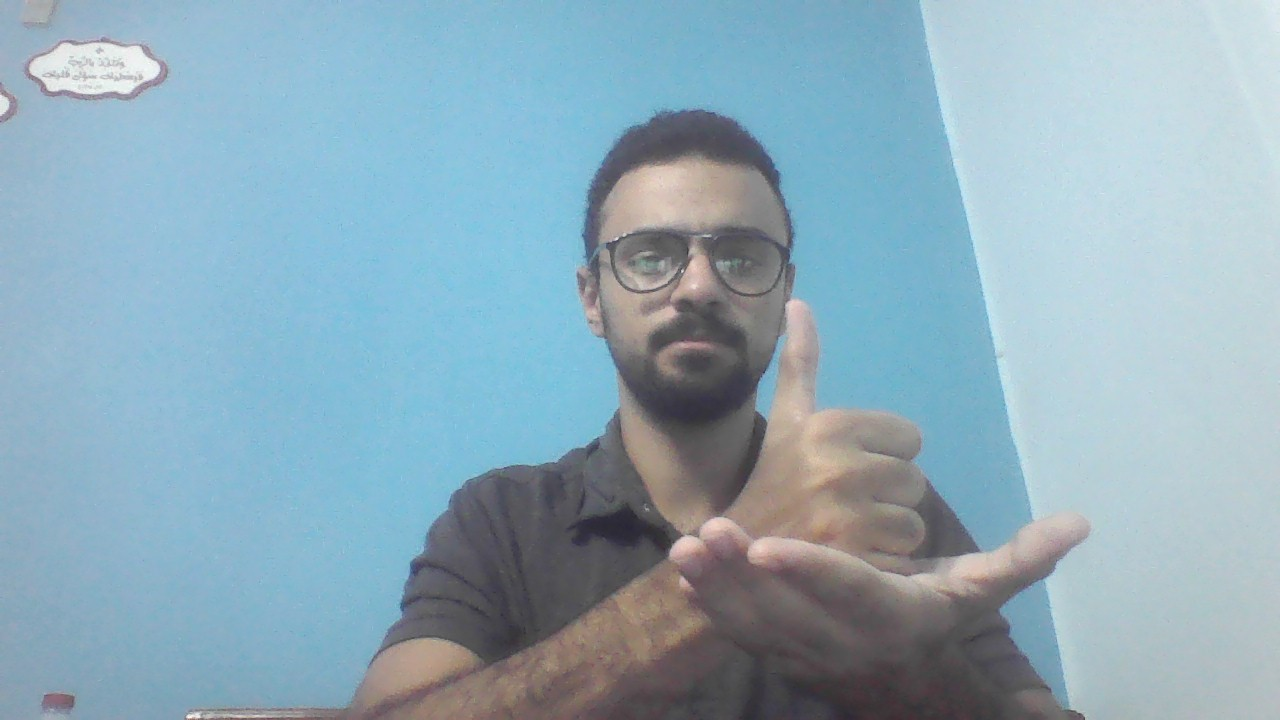help: (670, 283, 1090, 661)
